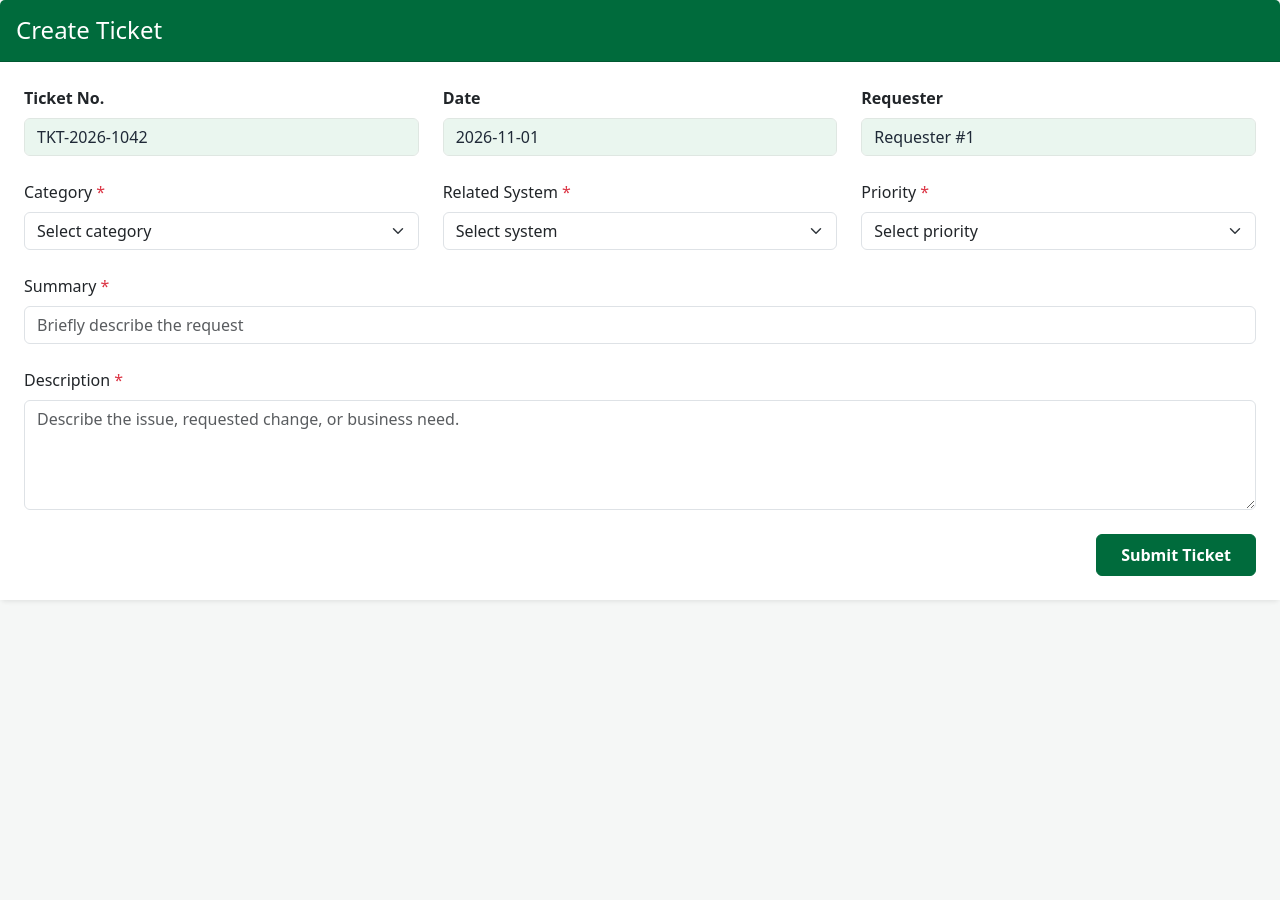
CreateTicketForm › shows an error message when the API fails during ticket creation
Select "Hardware" in the dropdown labelled "Category *": (221, 231) [24, 212, 419, 250]
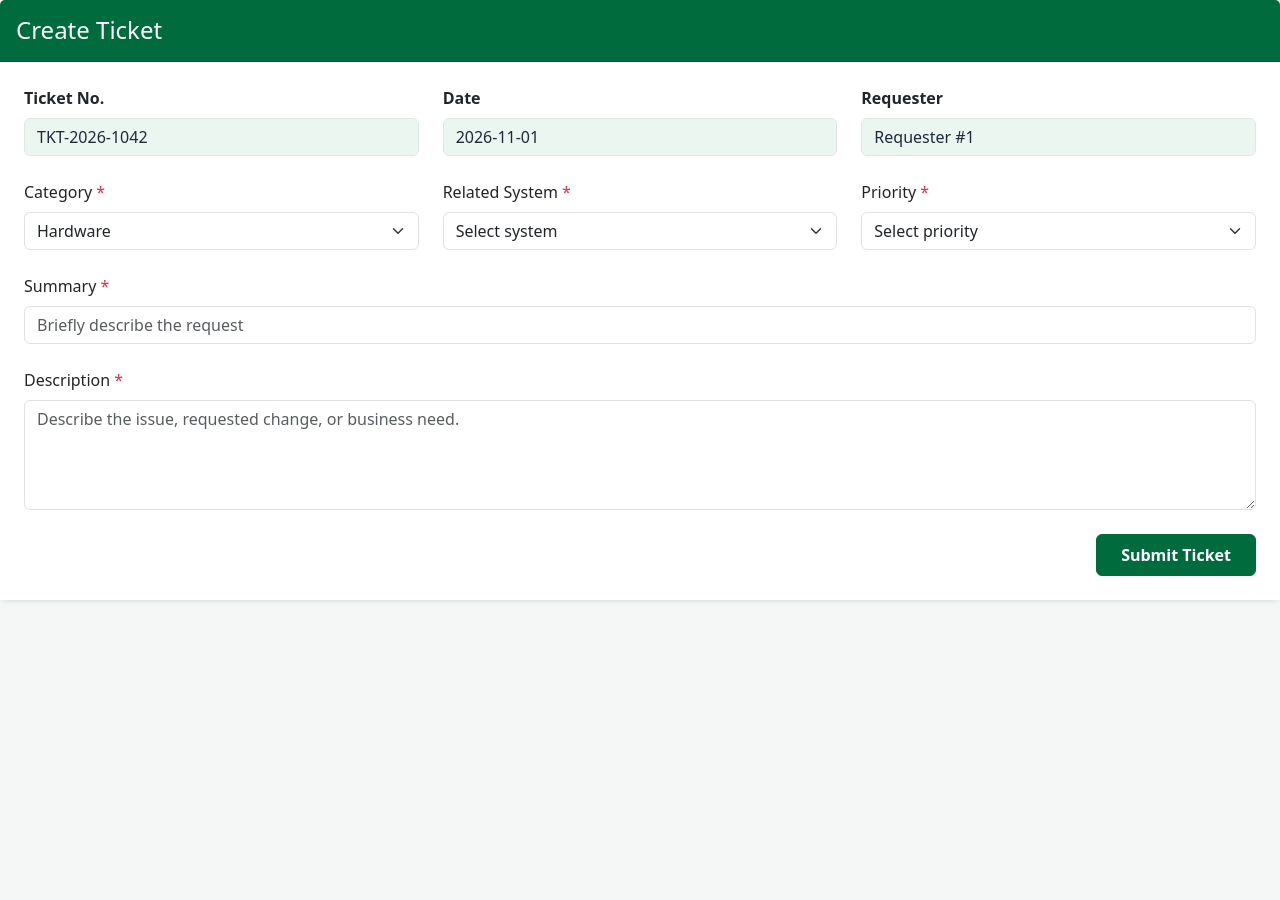
In the field with placeholder "Briefly describe the request": (640, 325) [24, 306, 1256, 344], type "VPN access"
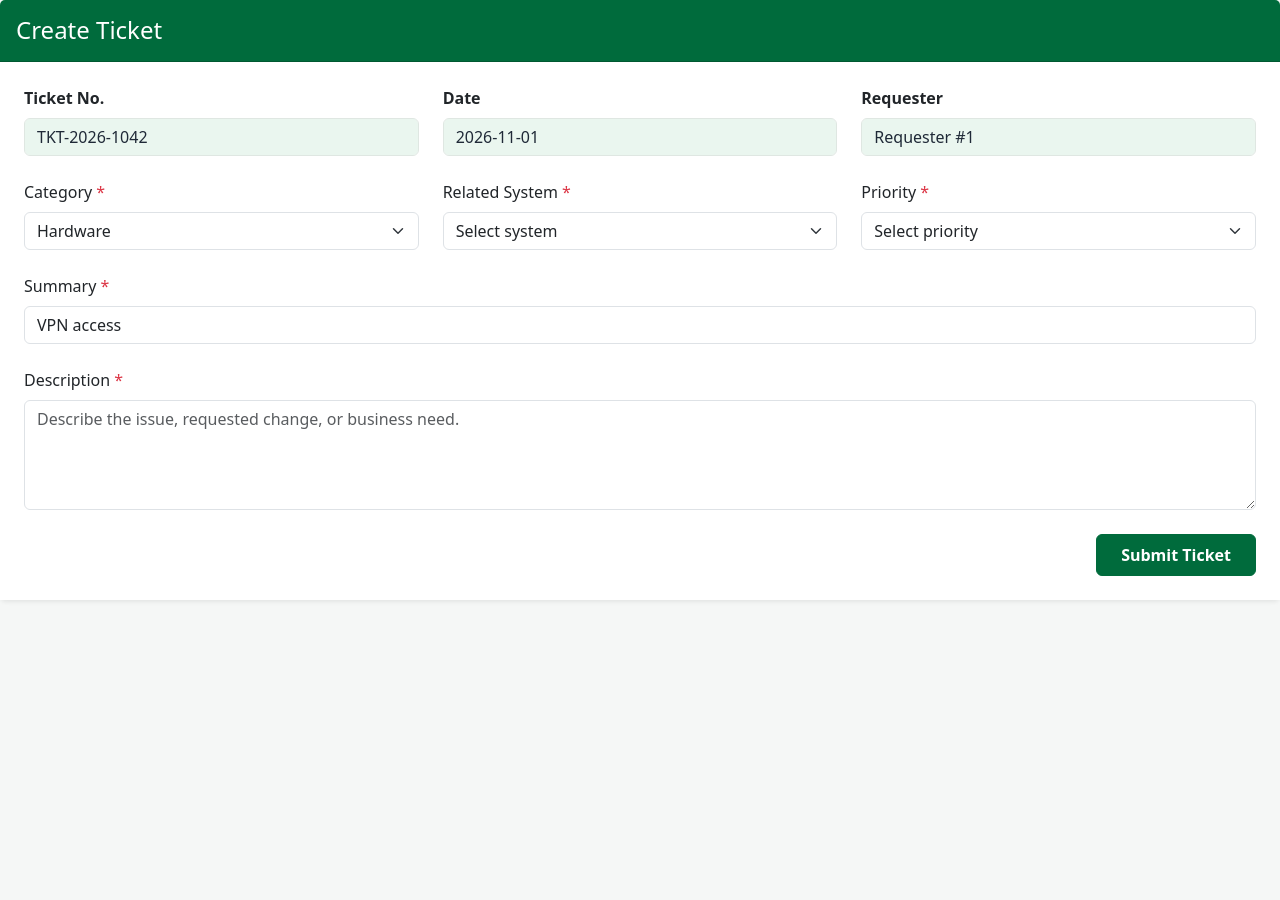
In the text box labelled "Description *": (640, 455) [24, 400, 1256, 510], type "Remote access is required."
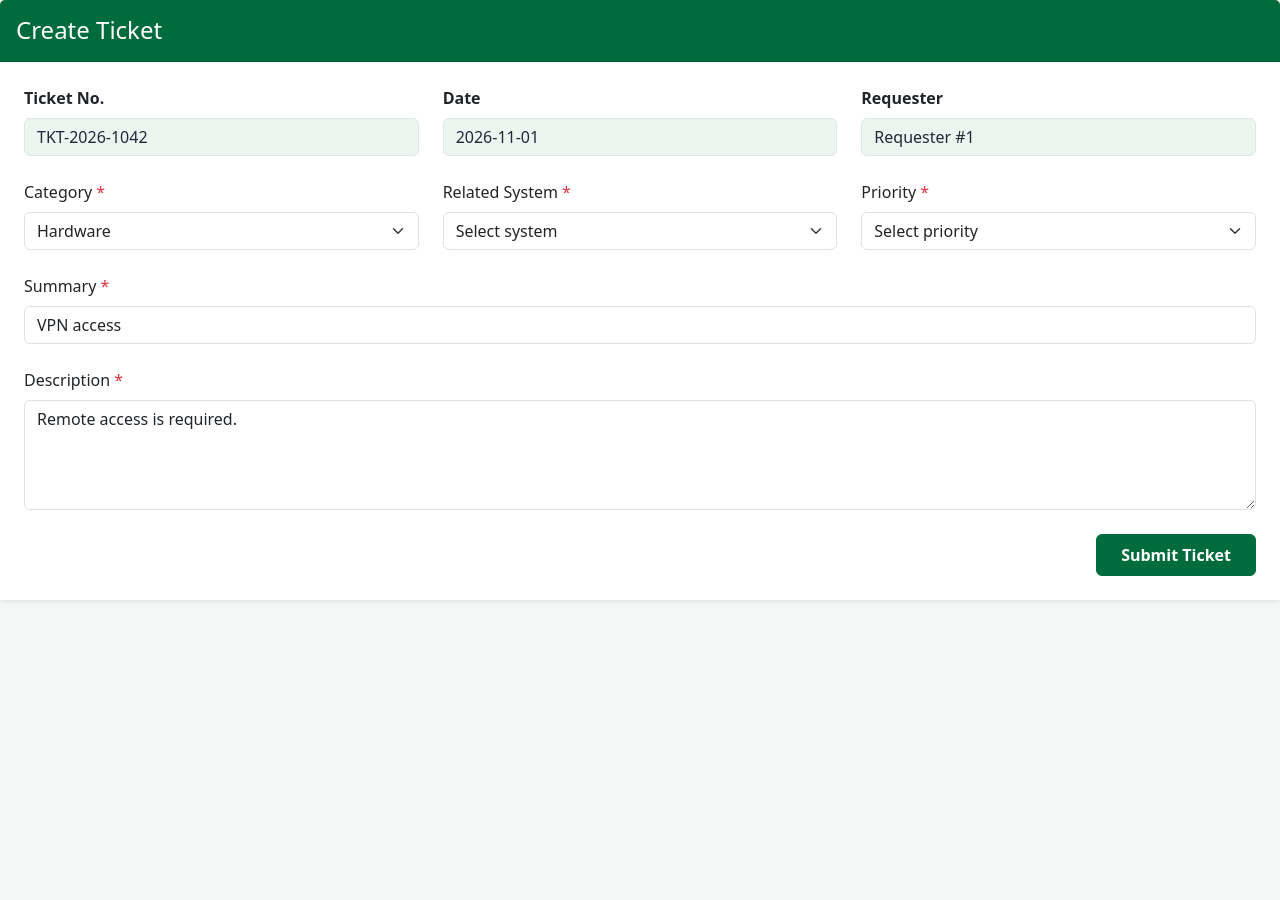
Submit the form named "Submit Ticket", box [24, 86, 1256, 576]
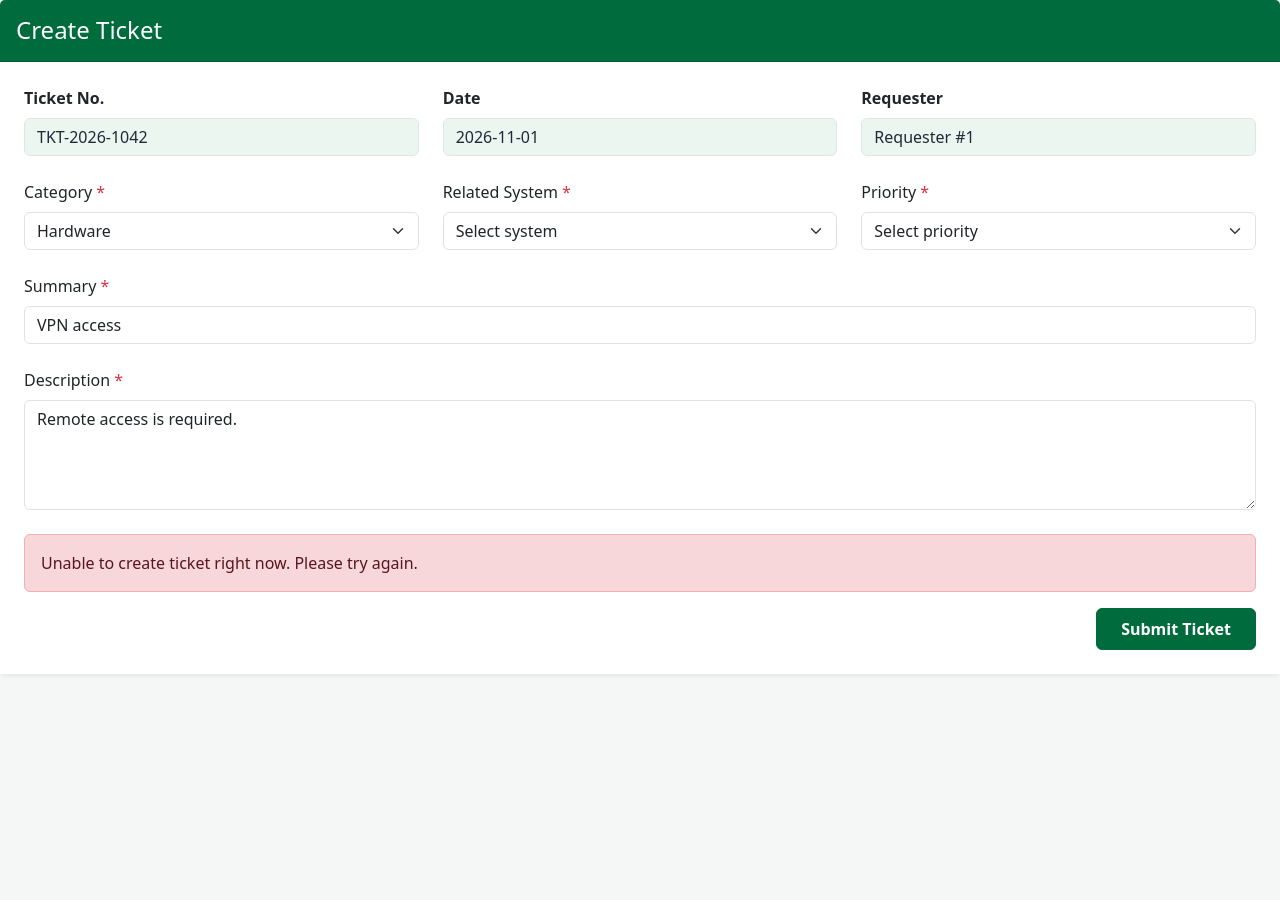
Expected: the button "Submit Ticket" is enabled, [1096, 608, 1256, 650]
Expected: the text "Unable to create ticket right now. Please try again." is shown, [24, 534, 1256, 592]
